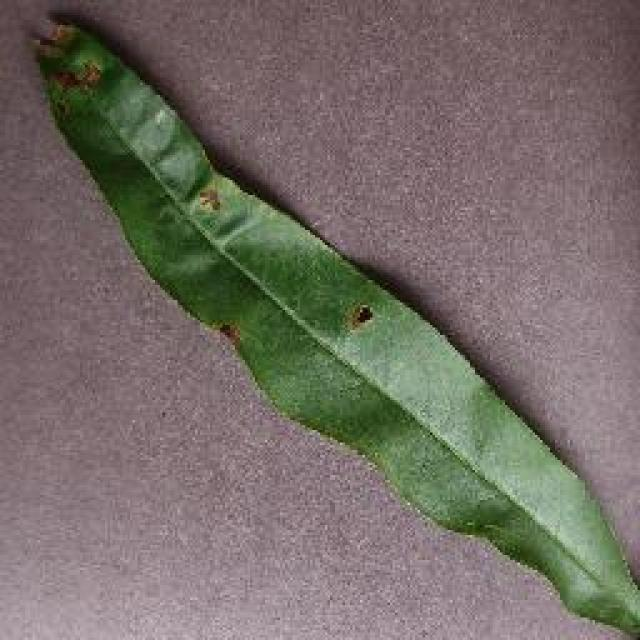Pea_Bacterial_spot: (15, 7, 120, 122), (330, 286, 388, 360), (175, 165, 241, 225), (212, 304, 248, 358)
